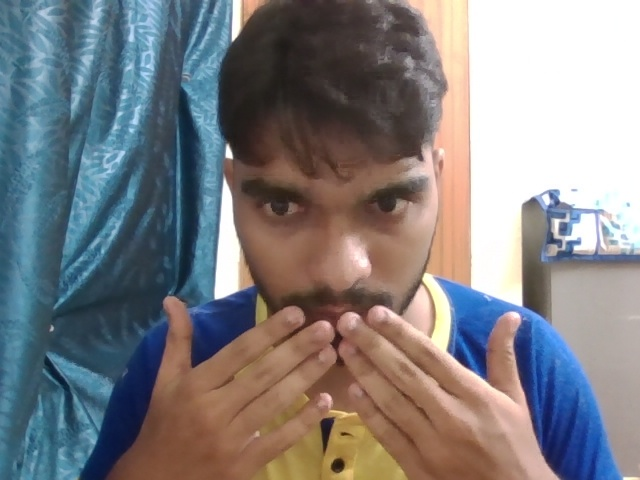Thank You: (133, 266, 573, 480)
